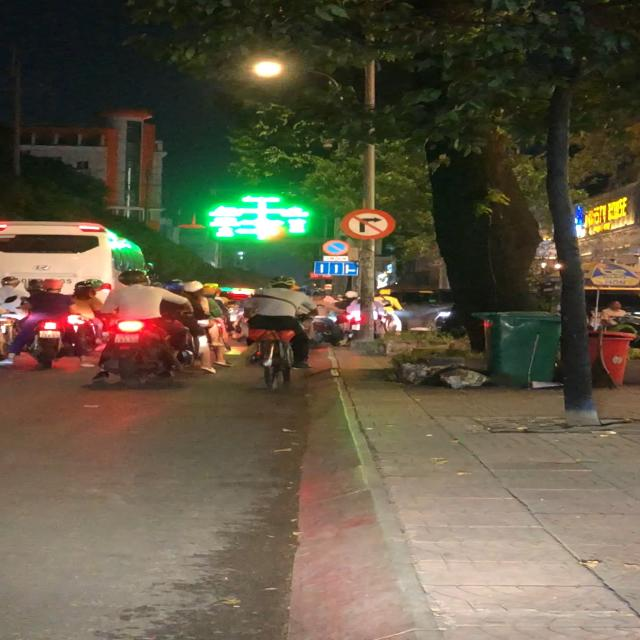Bien bao cam do xe: (322, 238, 352, 256)
Bien bao cam re phai: (339, 209, 398, 241)
